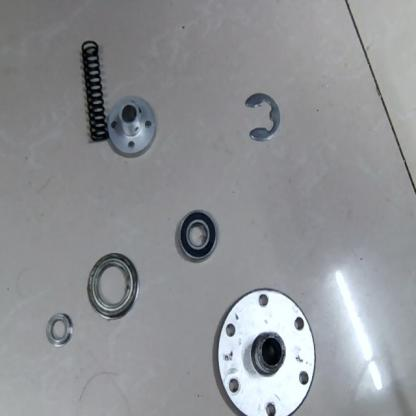FOD: (212, 284, 319, 415), (83, 250, 142, 325), (78, 34, 112, 147), (105, 93, 159, 158), (175, 210, 220, 266), (240, 90, 284, 145), (43, 310, 75, 350)
